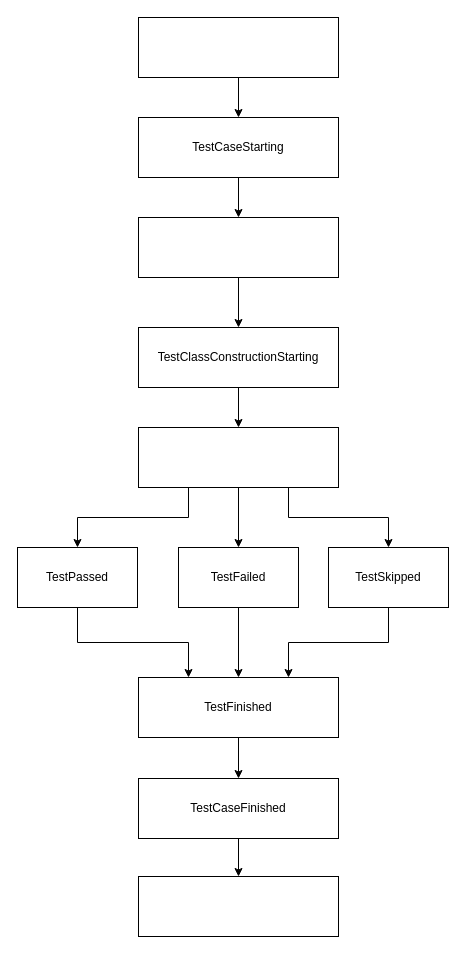
Some shapes in this 466 by 954 pixel diagram are drawn without their labels. The box of each missing label's shape, as (x1, y1, x2, y2) in pixels:
TestClassConstructionFinished: (138, 426, 338, 488)
TestMethodFinished: (138, 876, 338, 936)
TestMethodStarting: (138, 16, 338, 78)
TestStarting: (138, 216, 338, 278)
